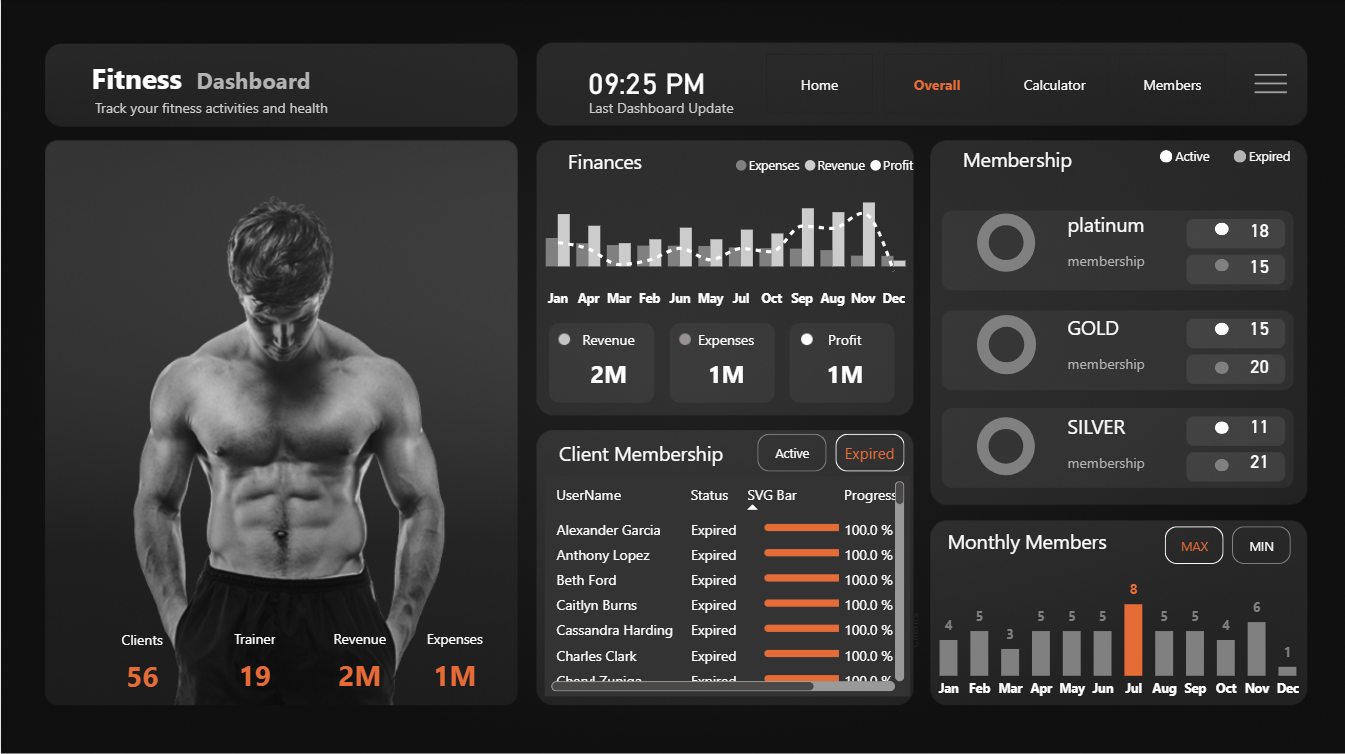

Layout of this report page (visuals, bound fields, positions):
{"tool":"powerbi","page":{"name":"Overall","canvas":[1280,720],"ordinal":1},"visuals":[{"type":"cardVisual","fields":{"Data":["_measures.Clients"]},"box":[84.5,583.3,100,79.8],"z":0},{"type":"cardVisual","fields":{"Data":["Count(Users.Trainer Name)"]},"box":[191.7,582.1,100,79.8],"z":1000},{"type":"cardVisual","fields":{"Data":["_measures.Revenue"]},"box":[528.6,297.6,100,78.6],"z":2000},{"type":"cardVisual","fields":{"Data":["_measures.Expenses"]},"box":[641.1,297.6,100,79.8],"z":3000},{"type":"cardVisual","fields":{"Data":["_measures.Profit"]},"box":[753.6,297.6,100,81],"z":4000},{"type":"cardVisual","fields":{"Data":["_measures.Revenue"]},"box":[291.6,582.3,100.1,80.8],"z":5000},{"type":"cardVisual","fields":{"Data":["_measures.Expenses"]},"box":[382.1,582.1,100,79.8],"z":6000},{"type":"lineClusteredColumnComboChart","fields":{"Category":["Calender.Month"],"Y":["_measures.Expenses","_measures.Revenue"],"Y2":["_measures.Profit"]},"box":[502.4,138.1,376.2,164.3],"z":7000},{"type":"textbox","box":[519.8,135.8,128.4,40.7],"z":8000},{"type":"clusteredColumnChart","fields":{"Y":["_measures.Clients"],"Category":["Calender.Month"]},"box":[859.5,542.9,391.7,131],"z":9000},{"type":"advancedSlicerVisual","fields":{"Values":["MIN_MAX_TABLE.TYPE"]},"box":[1103.6,496.4,131,46.4],"z":10000},{"type":"tableEx","fields":{"Values":["Users.UserName","Users.Status","_measures.SVG_BarChart","_measures.Progress Percent Display"]},"box":[517.9,453.6,347.6,209.5],"z":11000},{"type":"advancedSlicerVisual","fields":{"Values":["Users.Status"]},"box":[715.5,408.3,150,46.4],"z":12000},{"type":"textbox","box":[520.2,414.3,178.6,35.7],"z":13000},{"type":"textbox","box":[896.4,497.6,197.6,46.4],"z":14000},{"type":"textbox","box":[1011,196.3,113.4,37.8],"z":15000},{"type":"textbox","box":[1011,387.8,113.4,37.8],"z":16000},{"type":"textbox","box":[1011,293.9,113.4,37.8],"z":17000},{"type":"textbox","box":[1011,234.1,123.2,36.6],"z":18000},{"type":"textbox","box":[1011,425.6,123.2,36.6],"z":19000},{"type":"textbox","box":[1011,331.7,123.2,36.6],"z":20000},{"type":"donutChart","fields":{"Y":["_measures.Client Platinum"],"Category":["Users.Status"]},"box":[893.9,191.5,126.8,79.3],"z":21000},{"type":"donutChart","fields":{"Category":["Users.Status"],"Y":["_measures.Client Gold"]},"box":[879.3,287.8,156.1,80.5],"z":22000},{"type":"donutChart","fields":{"Category":["Users.Status"],"Y":["_measures.Client silver"]},"box":[887.7,385.2,138.3,79],"z":23000},{"type":"card","fields":{"Values":["_measures.Platinum Active"]},"box":[1156.1,197.6,85.4,45.1],"z":24000},{"type":"card","fields":{"Values":["_measures.Platinum Expired"]},"box":[1156.1,231.7,85.4,45.1],"z":25000},{"type":"card","fields":{"Values":["_measures.Silver Expired"]},"box":[1156.1,418.3,85.4,45.1],"z":26000},{"type":"card","fields":{"Values":["_measures.Silver Active"]},"box":[1156.1,384.1,85.4,45.1],"z":27000},{"type":"card","fields":{"Values":["_measures.Gold Active"]},"box":[1156.1,291.5,85.4,45.1],"z":28000},{"type":"card","fields":{"Values":["_measures.Gold Expired"]},"box":[1156.1,326.8,85.4,45.1],"z":29000},{"type":"shape","box":[1156.1,212.2,13.4,12.2],"z":30000},{"type":"shape","box":[1156.1,307.3,13.4,12.2],"z":31000},{"type":"shape","box":[1156.1,401.2,13.4,12.2],"z":32000},{"type":"shape","box":[1156.1,246.3,13.4,12.2],"z":33000},{"type":"shape","box":[1156.1,343.9,13.4,12.2],"z":34000},{"type":"shape","box":[1156.1,436.6,13.4,12.2],"z":35000},{"type":"shape","box":[1103.7,142.7,12.2,12.2],"z":36000},{"type":"shape","box":[1174.4,142.7,12.2,12.2],"z":37000},{"type":"textbox","box":[896.3,134.1,129.3,41.5],"z":38000},{"type":"textbox","box":[1169.5,134.1,111,35.4],"z":39000},{"type":"textbox","box":[1098.8,134.1,129.3,41.5],"z":40000},{"type":"textbox","box":[167.1,57.3,140.2,41.5],"z":41000},{"type":"textbox","box":[67.1,51.2,131.7,53.7],"z":42000},{"type":"image","box":[1181,56,58.3,48.8],"z":43000},{"type":"textbox","box":[554.9,87.8,248.8,40.2],"z":44000},{"type":"card","fields":{"Values":["_measures.Last Refresh"]},"box":[502.4,36.6,225.6,82.9],"z":45000},{"type":"textbox","box":[84.1,87.8,248.8,40.2],"z":46000},{"type":"textbox","box":[554.9,87.8,248.8,40.2],"z":47000},{"type":"pageNavigator","box":[728.6,51.2,440.5,57.1],"z":48000}]}

Visuals, with their boxes in screenshot pixels (x1, y1, x2, y2), scaled from the page's 1280x720 canvas onto the 1345x754 screenshot:
cardVisual - _measures.Clients: 89:611:194:694
cardVisual - Count(Users.Trainer Name): 201:610:307:693
cardVisual - _measures.Revenue: 555:312:661:394
cardVisual - _measures.Expenses: 674:312:779:395
cardVisual - _measures.Profit: 792:312:897:396
cardVisual - _measures.Revenue: 306:610:412:694
cardVisual - _measures.Expenses: 402:610:507:693
lineClusteredColumnComboChart - Calender.Month x _measures.Expenses: 528:145:923:317
textbox: 546:142:681:185
clusteredColumnChart - _measures.Clients x Calender.Month: 903:569:1315:706
advancedSlicerVisual - MIN_MAX_TABLE.TYPE: 1160:520:1297:568
tableEx - Users.UserName x Users.Status: 544:475:909:694
advancedSlicerVisual - Users.Status: 752:428:909:476
textbox: 547:434:734:471
textbox: 942:521:1150:570
textbox: 1062:206:1181:245
textbox: 1062:406:1181:446
textbox: 1062:308:1181:347
textbox: 1062:245:1192:283
textbox: 1062:446:1192:484
textbox: 1062:347:1192:386
donutChart - _measures.Client Platinum x Users.Status: 939:201:1073:284
donutChart - Users.Status x _measures.Client Gold: 924:301:1088:386
donutChart - Users.Status x _measures.Client silver: 933:403:1078:486
card - _measures.Platinum Active: 1215:207:1305:254
card - _measures.Platinum Expired: 1215:243:1305:290
card - _measures.Silver Expired: 1215:438:1305:485
card - _measures.Silver Active: 1215:402:1305:449
card - _measures.Gold Active: 1215:305:1305:352
card - _measures.Gold Expired: 1215:342:1305:389
shape: 1215:222:1229:235
shape: 1215:322:1229:335
shape: 1215:420:1229:433
shape: 1215:258:1229:271
shape: 1215:360:1229:373
shape: 1215:457:1229:470
shape: 1160:149:1173:162
shape: 1234:149:1247:162
textbox: 942:140:1078:184
textbox: 1229:140:1344:178
textbox: 1155:140:1290:184
textbox: 176:60:323:103
textbox: 71:54:209:110
image: 1241:59:1302:110
textbox: 583:92:845:134
card - _measures.Last Refresh: 528:38:765:125
textbox: 88:92:350:134
textbox: 583:92:845:134
pageNavigator: 766:54:1228:113
